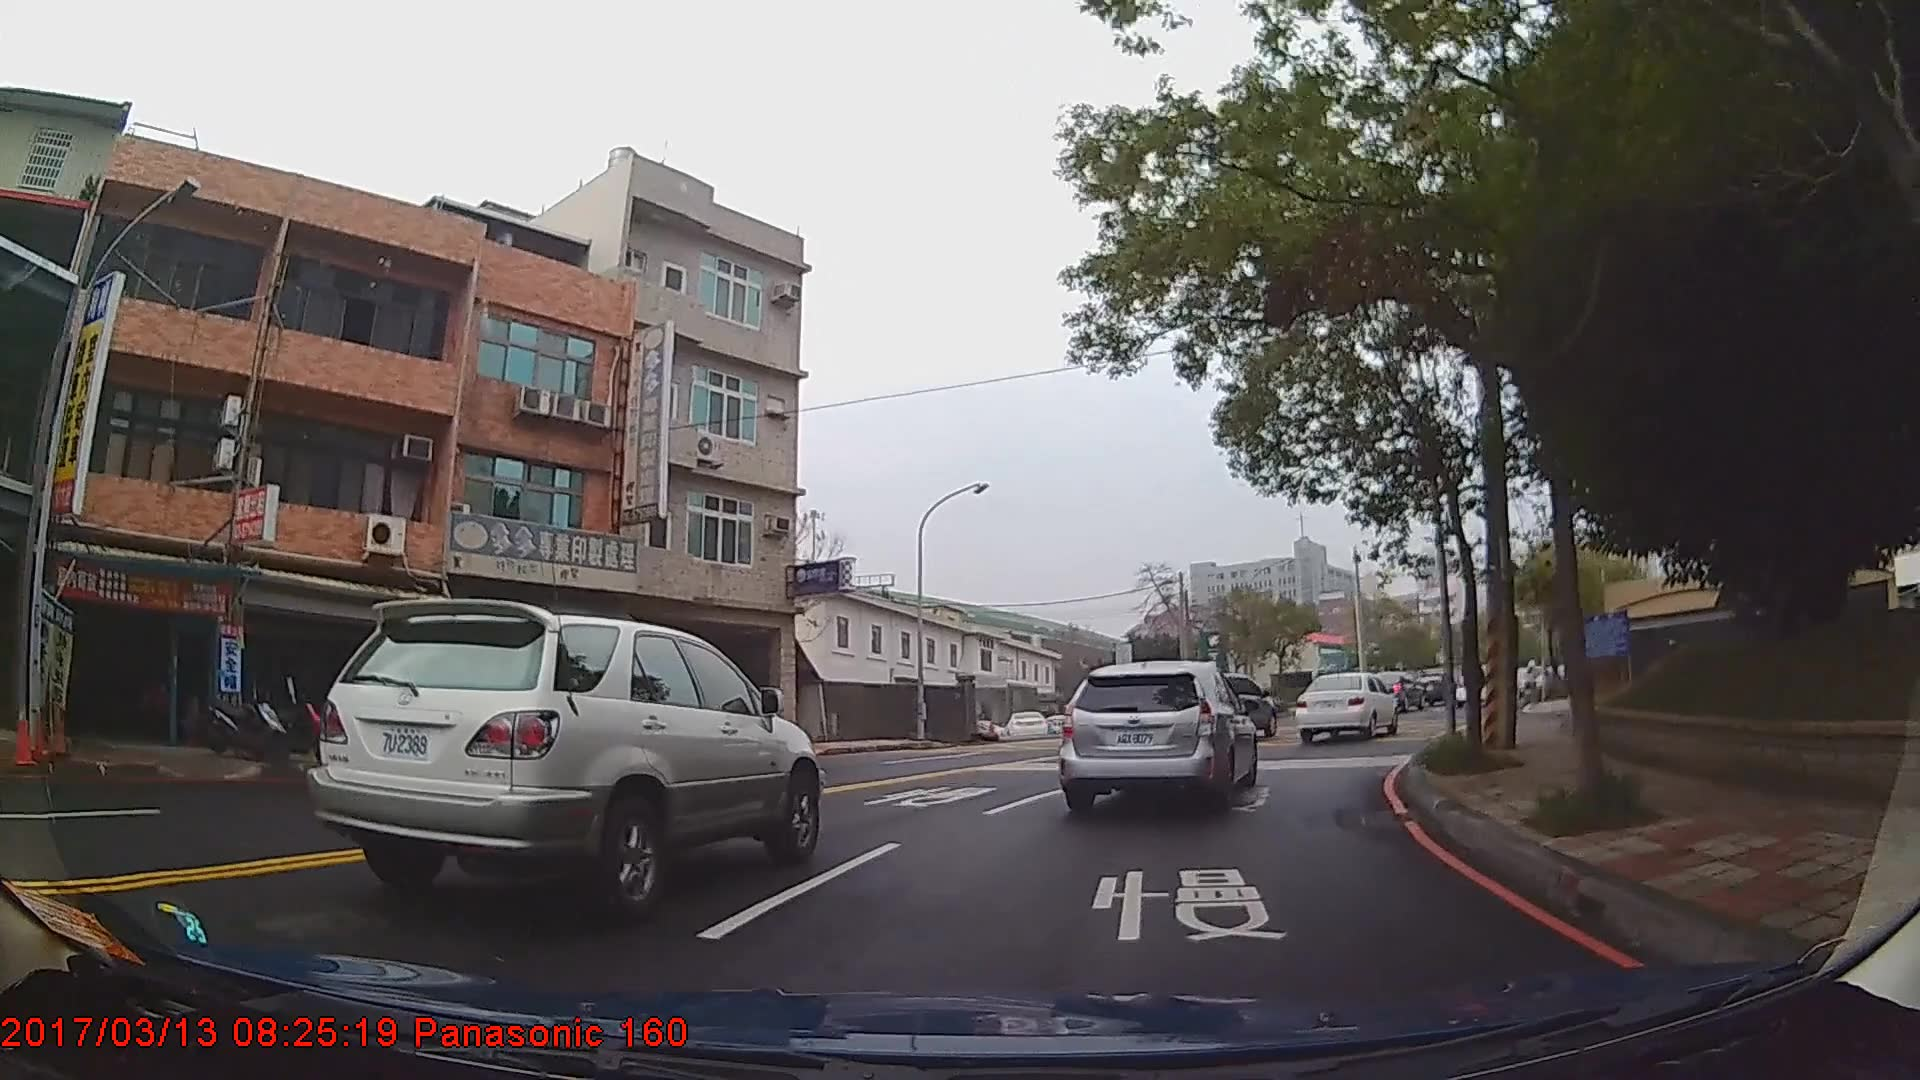vehicle: (302, 596, 822, 923), (1054, 658, 1254, 810), (1294, 670, 1400, 742), (1187, 673, 1276, 740), (1004, 708, 1048, 737)
